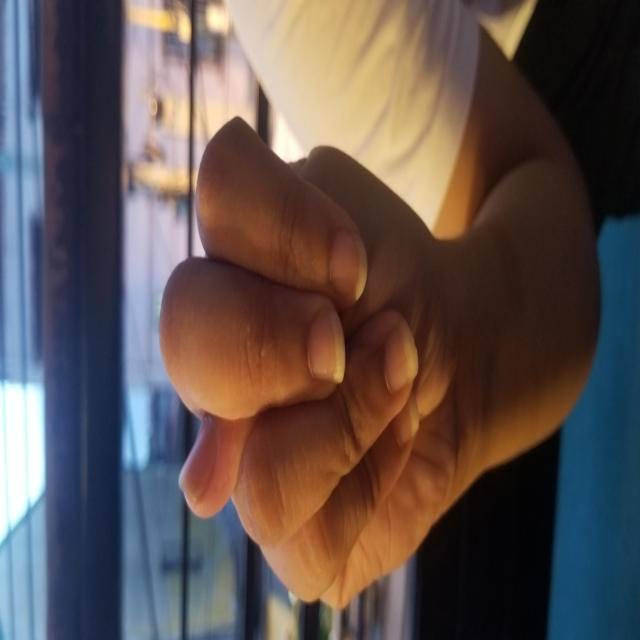N: (24, 157, 527, 457)
